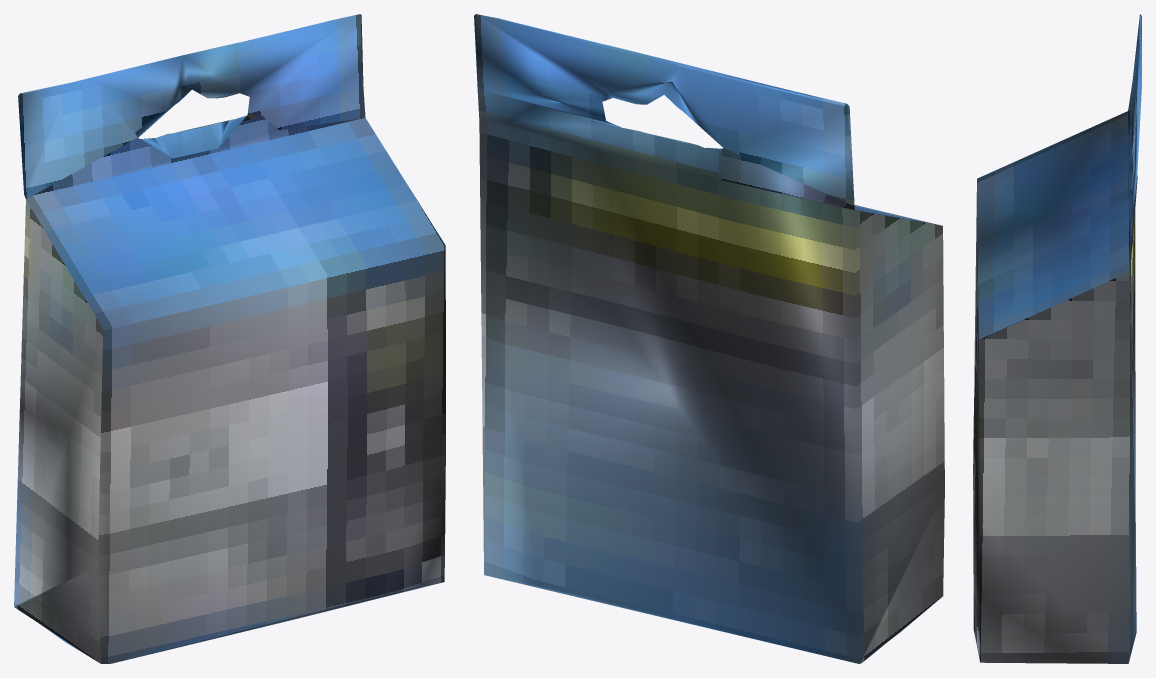
File: Epson_LabelWorks_LC5WBN9_Tape_reel_labels_071_x_295_Roll_Black_on_White-low.glb
3 renders of one model, left to right at view 1: azimuth 30°, elevation 25°; view 2: azimuth 150°, elevation 25°; view 3: azimuth 270°, elevation 25°, orthographic. The views are drawn at different scales.
Parts seen in each view (by area): view 1: Epson_LabelWorks_LC5WBN9_Tape_reel_labels_071_x_295_Roll_Bla; view 2: Epson_LabelWorks_LC5WBN9_Tape_reel_labels_071_x_295_Roll_Bla; view 3: Epson_LabelWorks_LC5WBN9_Tape_reel_labels_071_x_295_Roll_Bla.
Part boxes in pixels (x1,y1,x2,y2): Epson_LabelWorks_LC5WBN9_Tape_reel_labels_071_x_295_Roll_Bla: (14,14,445,663); Epson_LabelWorks_LC5WBN9_Tape_reel_labels_071_x_295_Roll_Bla: (474,14,944,663); Epson_LabelWorks_LC5WBN9_Tape_reel_labels_071_x_295_Roll_Bla: (973,14,1141,663).
Size of the model in its own units: 0.0881 by 0.1229 by 0.0382.
Materials: 1 (1 with a texture image).
